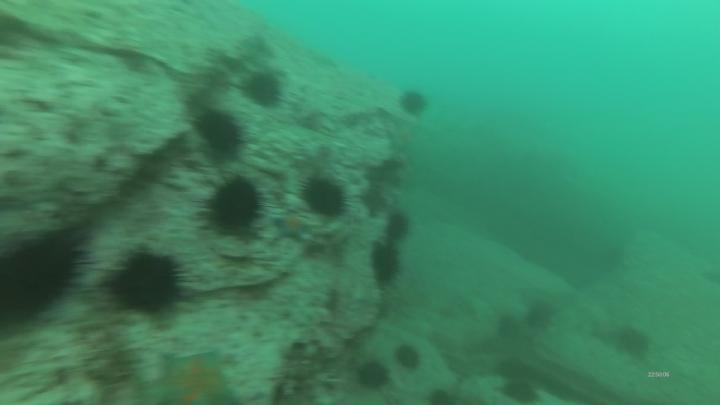echinus: (1, 233, 93, 323), (101, 250, 189, 320), (200, 173, 266, 238), (297, 175, 351, 222), (195, 108, 246, 156), (241, 69, 285, 111), (369, 241, 403, 288), (614, 324, 654, 363), (354, 359, 392, 393), (502, 378, 543, 405), (398, 88, 431, 119), (385, 211, 414, 245), (392, 342, 422, 373), (525, 304, 557, 333), (425, 387, 455, 405)
starfish: (146, 351, 244, 405), (272, 208, 315, 246)
